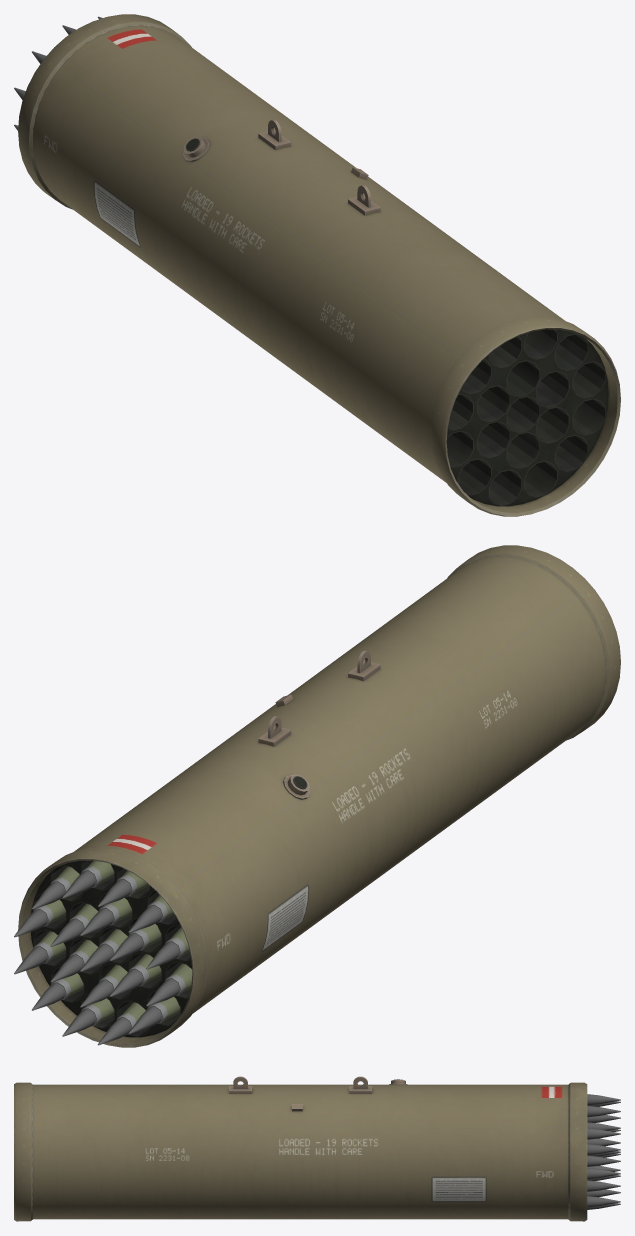
File: lau61.glb
The picture shows the model from 3 angles, top to bottom: view 1: azimuth 30°, elevation 25°; view 2: azimuth 150°, elevation 25°; view 3: azimuth 270°, elevation 25°; orthographic projection. The views are drawn at different scales.
Parts seen in each view (by area): view 1: LAU_body, LAU_lips, LAU_fixed; view 2: LAU_body, LAU_lips, LAU_fixed, r11, r8, r14, r3, r6, r12, r4, r13, r9 (+10 smaller); view 3: LAU_body, LAU_lips, LAU_fixed, r0, r7, r8, r9, r11, r16, r17, r10.
Boxes of the visible parts, <box> form: LAU_body: <box>32,25,608,506</box>; LAU_lips: <box>18,14,620,516</box>; LAU_fixed: <box>183,119,380,215</box>; LAU_body: <box>31,556,606,1037</box>; LAU_lips: <box>18,545,620,1047</box>; LAU_fixed: <box>258,650,380,799</box>; r11: <box>62,860,114,898</box>; r8: <box>14,931,65,974</box>; r14: <box>109,954,161,996</box>; r3: <box>146,963,192,1006</box>; r6: <box>62,998,114,1036</box>; r12: <box>80,898,131,935</box>; r4: <box>128,997,180,1034</box>; r13: <box>109,924,161,961</box>; r9: <box>14,899,65,937</box>; LAU_body: <box>32,1084,568,1219</box>; LAU_lips: <box>14,1082,587,1221</box>; LAU_fixed: <box>229,1076,407,1111</box>; r0: <box>587,1094,620,1105</box>; r7: <box>587,1196,620,1207</box>; r8: <box>587,1180,620,1191</box>; r9: <box>587,1155,620,1166</box>; r11: <box>587,1105,620,1117</box>; r16: <box>587,1168,620,1179</box>; r17: <box>587,1144,620,1155</box>; r10: <box>587,1128,620,1139</box>.
Bounding box in the file's own units: 0.412 × 0.452 × 1.8.
Materials: 4 (4 with a texture image).
